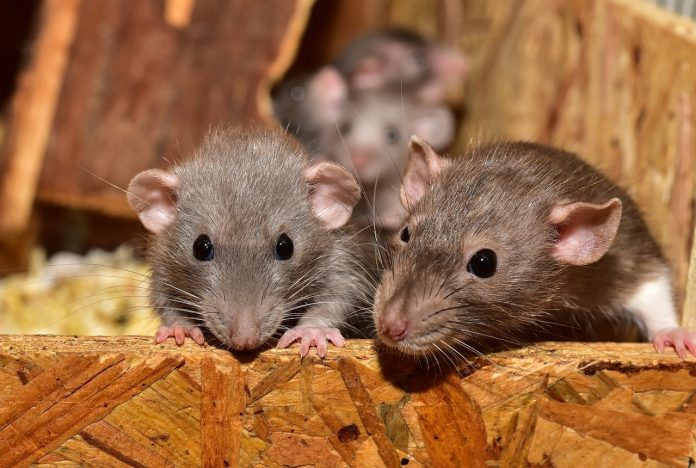rat: (100, 104, 378, 370), (357, 120, 639, 373)
